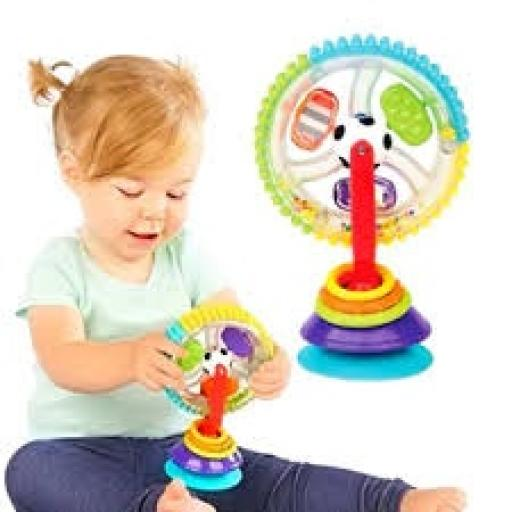baby: (5, 55, 466, 511)
